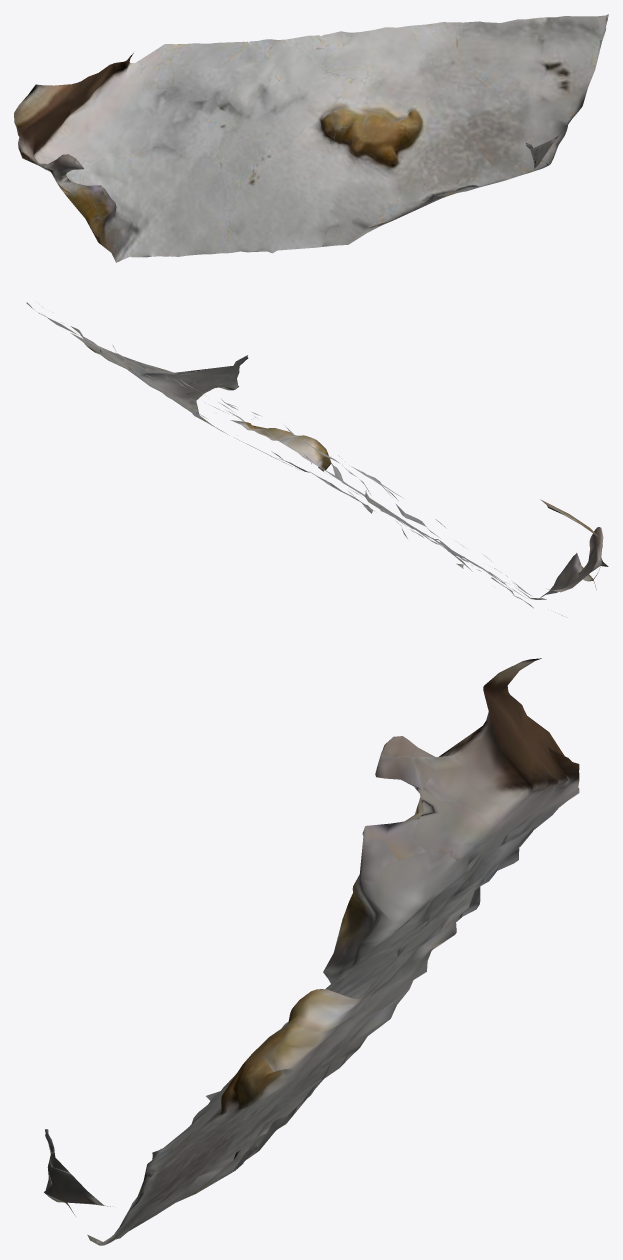
The model's file is hall.glb.
The picture shows the model from 3 angles, top to bottom: view 1: azimuth 30°, elevation 25°; view 2: azimuth 150°, elevation 25°; view 3: azimuth 270°, elevation 25°; orthographic projection. The views are drawn at different scales.
Bounding box in the file's own units: 1.44 × 0.3722 × 0.6251.
1 material, 1 textured.
